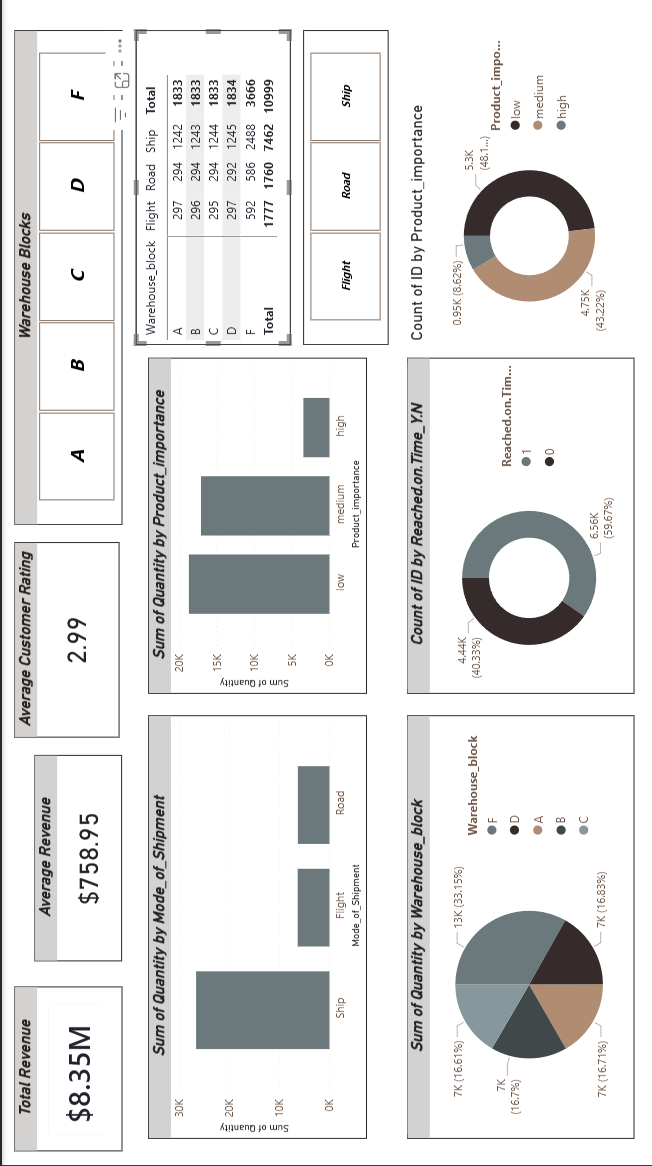

What the dashboard file says about the page in this screenshot:
{"tool":"powerbi","page":{"name":"Page 1","canvas":[1280,720],"ordinal":0},"visuals":[{"type":"cardVisual","title":"Total Revenue ","fields":{"Data":["retail_inventory dataset.total_revenue"]},"box":[15.1,13.7,181.1,118],"z":0},{"type":"columnChart","fields":{"Category":["retail_inventory dataset.Mode_of_Shipment"],"Y":["Sum(retail_inventory dataset.Quantity)"]},"box":[28.8,160.5,465.2,240.1],"z":1000},{"type":"pieChart","fields":{"Category":["retail_inventory dataset.Warehouse_block"],"Y":["Sum(retail_inventory dataset.Quantity)"]},"box":[28.8,444.6,465.2,249.7],"z":2000},{"type":"columnChart","fields":{"Category":["retail_inventory dataset.Product_importance"],"Y":["Sum(retail_inventory dataset.Quantity)"]},"box":[517.3,160.5,369.1,240.1],"z":3000},{"type":"card","title":"Average Revenue","fields":{"Values":["retail_inventory dataset.average_revenue"]},"box":[223.7,35.7,226.4,96.1],"z":4000},{"type":"donutChart","fields":{"Category":["retail_inventory dataset.Reached.on.Time_Y.N"],"Y":["CountNonNull(retail_inventory dataset.ID)"]},"box":[517.3,444.6,369.1,249.7],"z":5000},{"type":"card","title":"Average Customer Rating","fields":{"Values":["retail_inventory dataset.average_rating"]},"box":[469.3,13.7,214.1,115.3],"z":6000},{"type":"slicer","title":"Warehouse Blocks","fields":{"Values":["retail_inventory dataset.Warehouse_block"]},"box":[702.6,13.7,543.4,118],"z":7000},{"type":"slicer","fields":{"Values":["retail_inventory dataset.Mode_of_Shipment"]},"box":[900.2,330.7,345.8,93.3],"z":7001},{"type":"donutChart","fields":{"Category":["retail_inventory dataset.Product_importance"],"Y":["CountNonNull(retail_inventory dataset.ID)"]},"box":[900,445,346,250],"z":7002},{"type":"pivotTable","fields":{"Rows":["retail_inventory dataset.Warehouse_block"],"Columns":["retail_inventory dataset.Mode_of_Shipment"],"Values":["CountNonNull(retail_inventory dataset.ID)"]},"box":[900.2,146.8,345.8,170.2],"z":7003}]}

Visuals, with their boxes on the page's 1280x720 design canvas (x1, y1, x2, y2). These are canvas units, not pixel positions in the 652x1166 screenshot, which may show the page scaled, cropped or inside an application window:
"Total Revenue " cardVisual: 15:14:196:132
columnChart - retail_inventory dataset.Mode_of_Shipment x Sum(retail_inventory dataset.Quantity): 29:160:494:401
pieChart - retail_inventory dataset.Warehouse_block x Sum(retail_inventory dataset.Quantity): 29:445:494:694
columnChart - retail_inventory dataset.Product_importance x Sum(retail_inventory dataset.Quantity): 517:160:886:401
"Average Revenue" card: 224:36:450:132
donutChart - retail_inventory dataset.Reached.on.Time_Y.N x CountNonNull(retail_inventory dataset.ID): 517:445:886:694
"Average Customer Rating" card: 469:14:683:129
"Warehouse Blocks" slicer: 703:14:1246:132
slicer - retail_inventory dataset.Mode_of_Shipment: 900:331:1246:424
donutChart - retail_inventory dataset.Product_importance x CountNonNull(retail_inventory dataset.ID): 900:445:1246:695
pivotTable - retail_inventory dataset.Warehouse_block x retail_inventory dataset.Mode_of_Shipment: 900:147:1246:317
